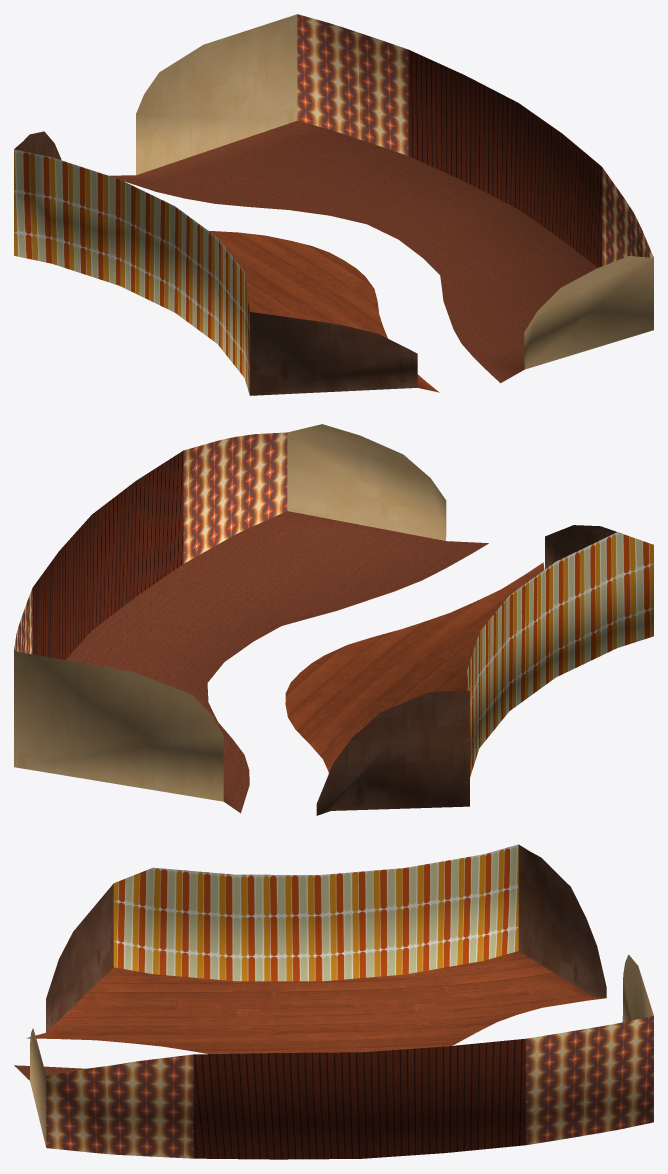
Rendered from mesh_70_wall.glb.
3 renders of one model, top to bottom at view 1: azimuth 30°, elevation 25°; view 2: azimuth 150°, elevation 25°; view 3: azimuth 270°, elevation 25°, orthographic. The views are drawn at different scales.
Visible parts, largest first — view 1: mesh_70_wall; view 2: mesh_70_wall; view 3: mesh_70_wall.
Boxes of the visible parts, bbox=[...] form: mesh_70_wall: bbox=[14, 14, 653, 395]; mesh_70_wall: bbox=[14, 424, 653, 815]; mesh_70_wall: bbox=[14, 844, 653, 1159].
Bounding box in the file's own units: 10.33 × 2.46 × 13.39.
1 material, 1 textured.
